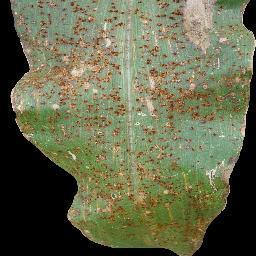Corn_Common_Rust: (8, 0, 256, 251)
